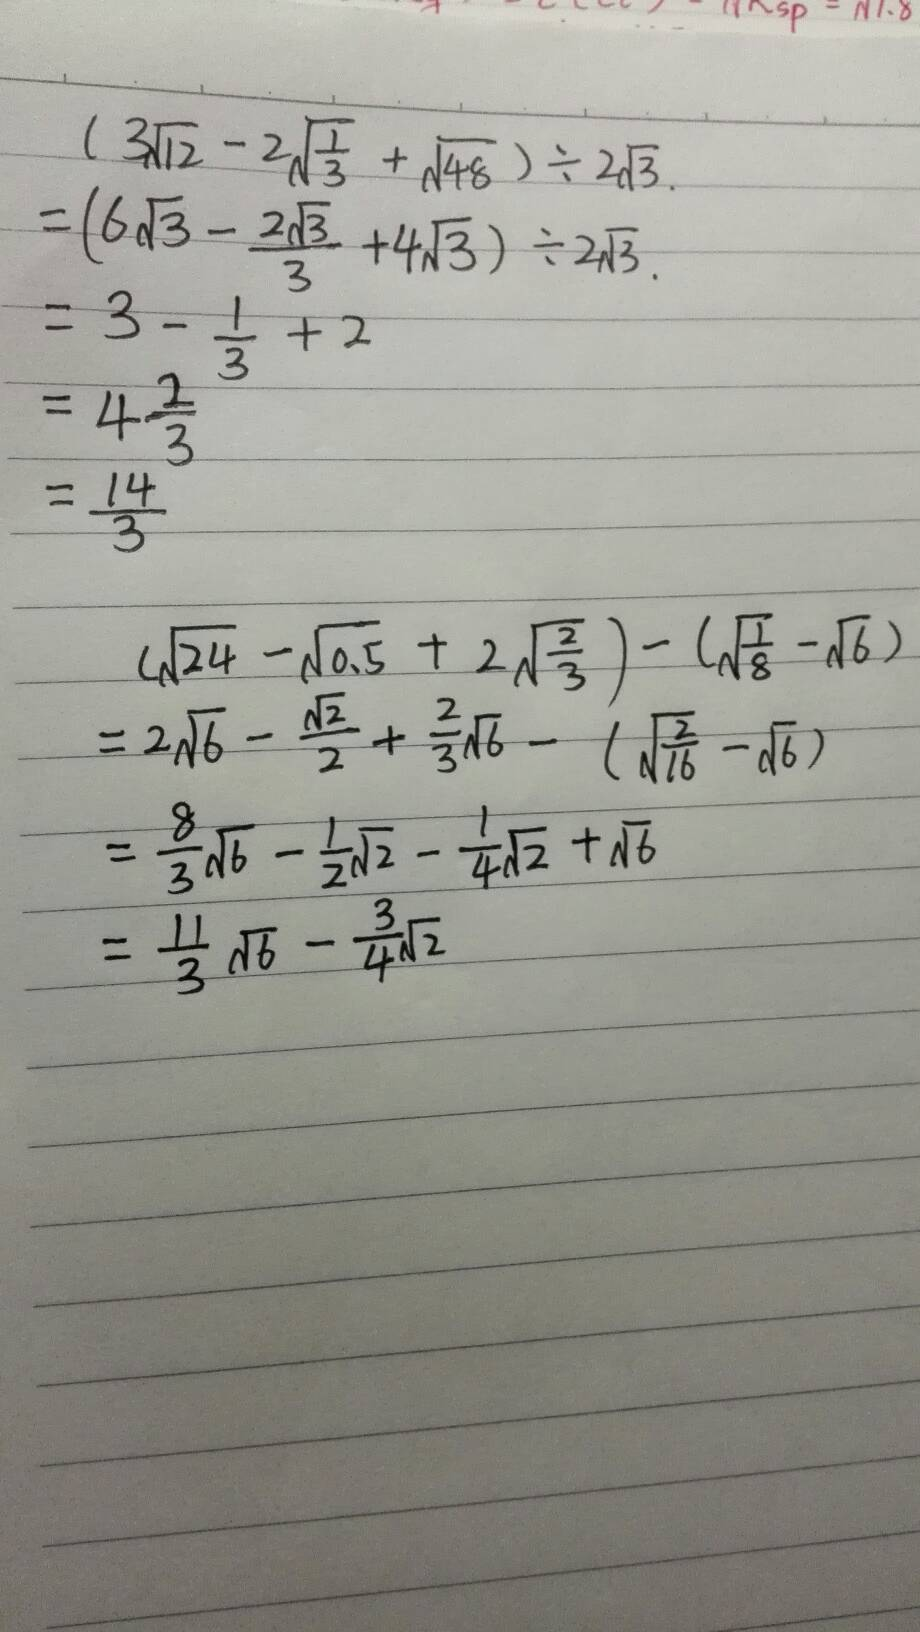division: (91, 497, 170, 523), (287, 724, 372, 744), (137, 404, 206, 424), (157, 939, 213, 964), (542, 645, 589, 669), (155, 842, 213, 861), (208, 325, 259, 344), (422, 724, 464, 742), (731, 634, 769, 653), (352, 934, 405, 947), (457, 842, 501, 856), (657, 739, 696, 751), (316, 844, 350, 857)
sqrt: (158, 616, 247, 689), (515, 613, 597, 690), (427, 123, 507, 200), (303, 614, 390, 679), (171, 698, 240, 779), (719, 600, 779, 690), (648, 698, 701, 792), (299, 111, 363, 188), (753, 708, 812, 785), (126, 196, 211, 247), (608, 810, 668, 874), (355, 817, 409, 885), (223, 922, 284, 983), (207, 815, 270, 873), (459, 701, 519, 761), (617, 135, 673, 198), (428, 214, 485, 276), (142, 112, 197, 173), (295, 195, 351, 252), (833, 613, 879, 681), (501, 815, 552, 874), (595, 219, 645, 279), (405, 907, 448, 968), (301, 695, 350, 724)
